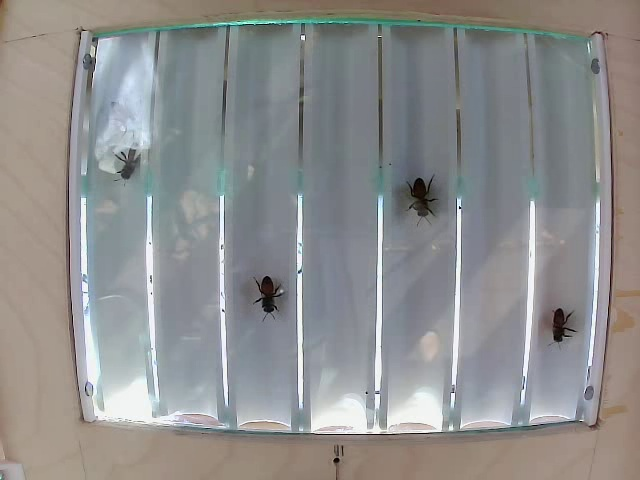bee: (538, 296, 581, 357), (257, 272, 296, 318), (404, 170, 437, 220), (114, 141, 145, 188)
